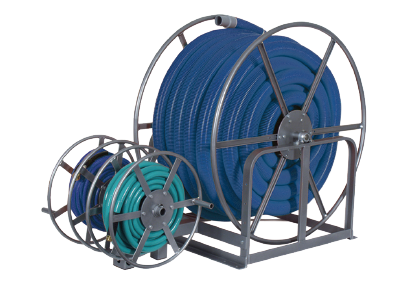Nonrec_Tangler: (35, 4, 393, 259)
